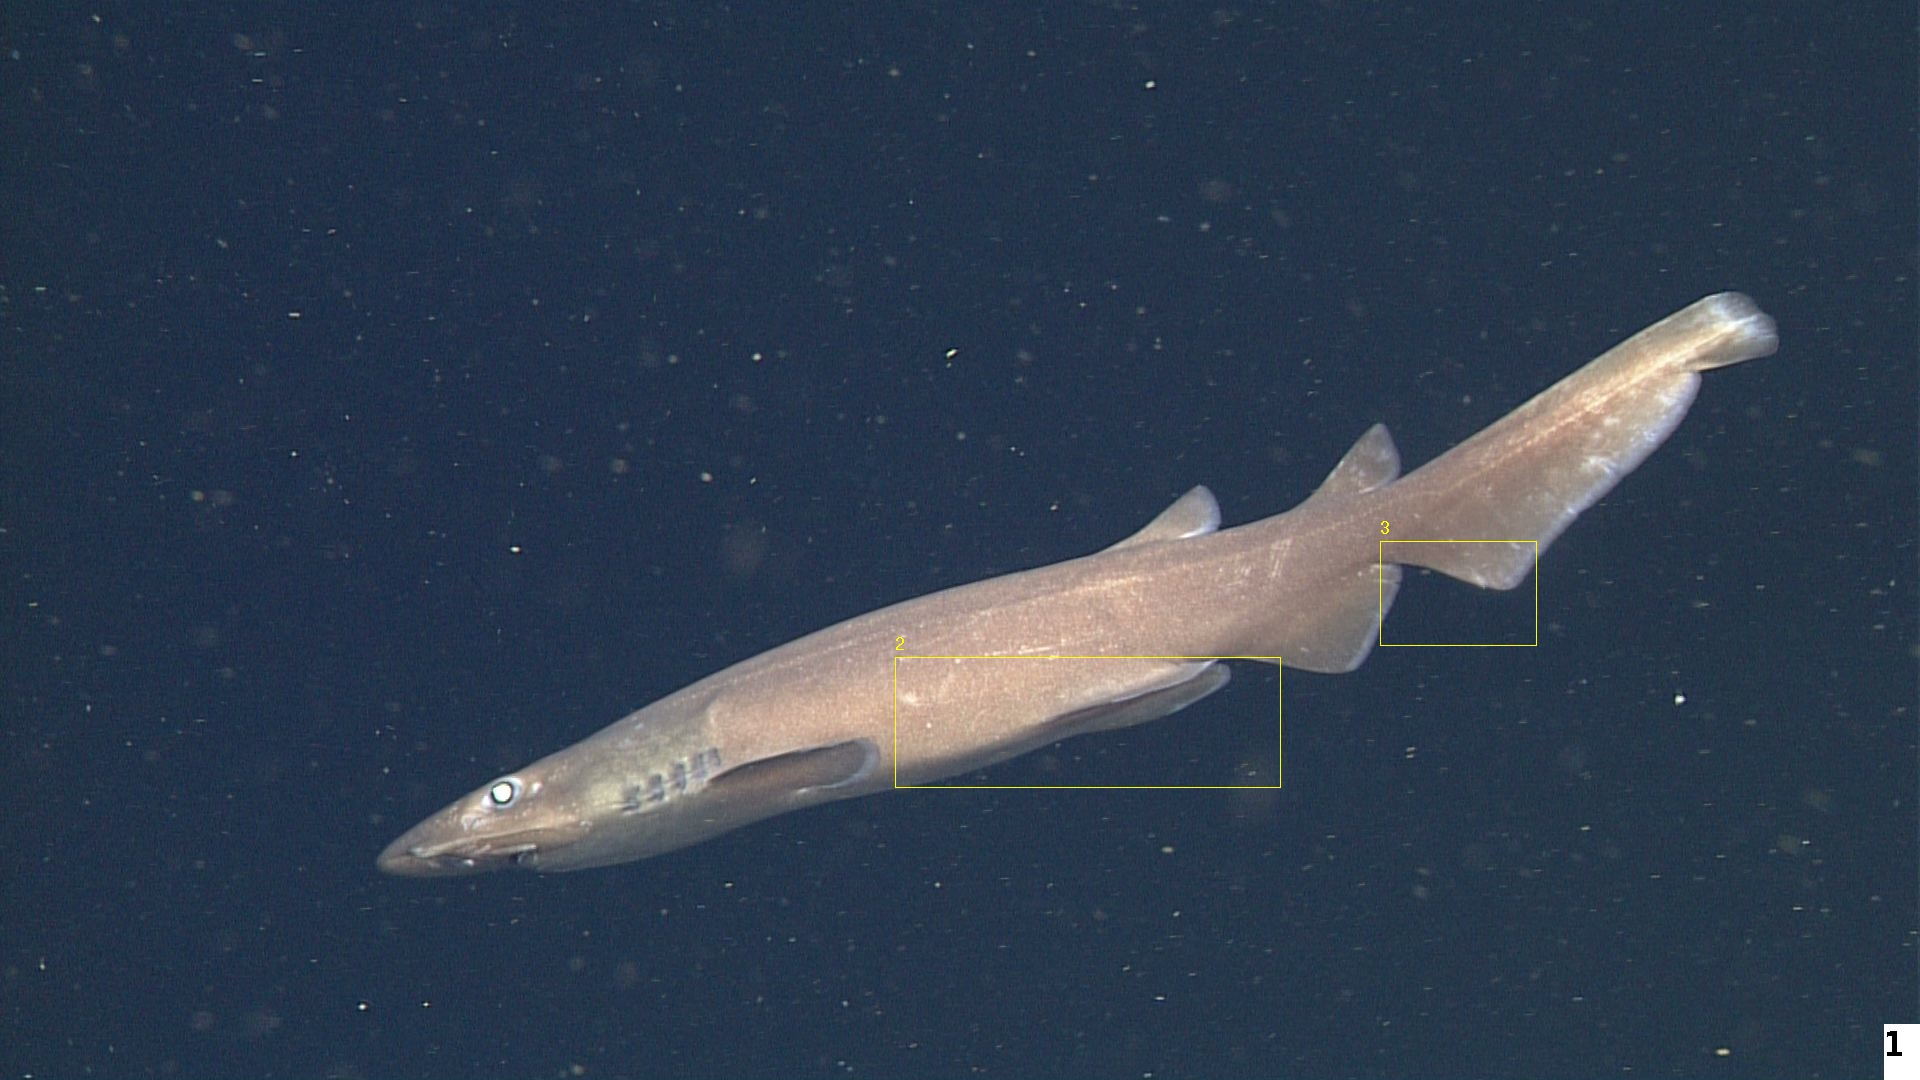shark: (280, 199, 1808, 919)
